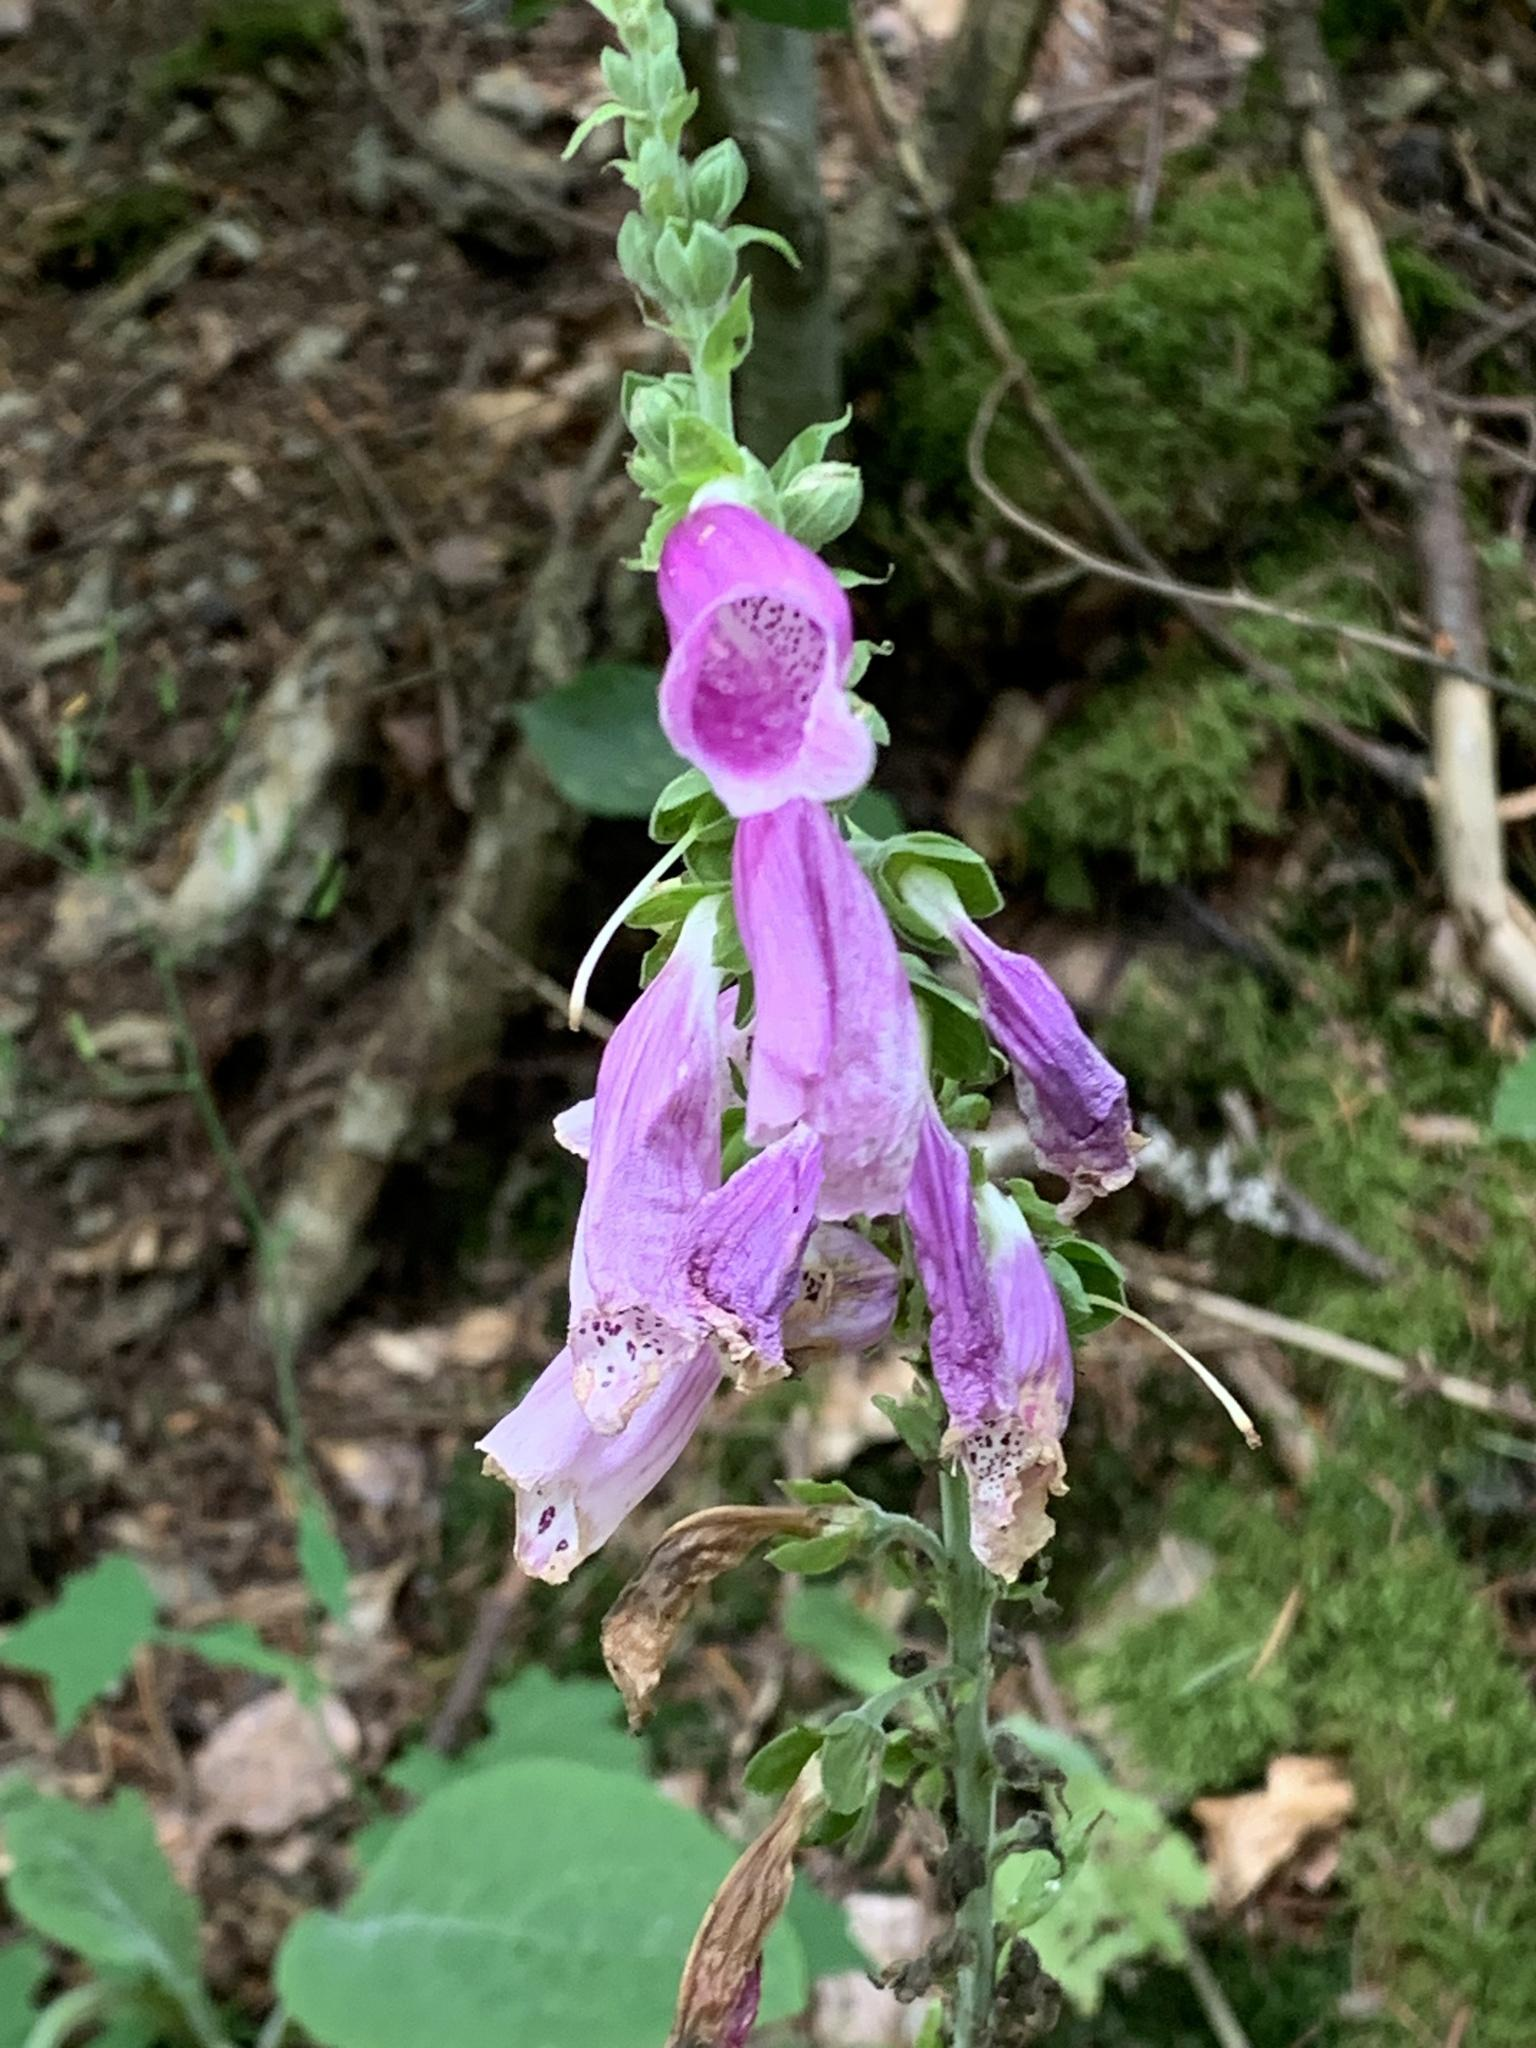Digitalis L: (532, 10, 1179, 2033)
